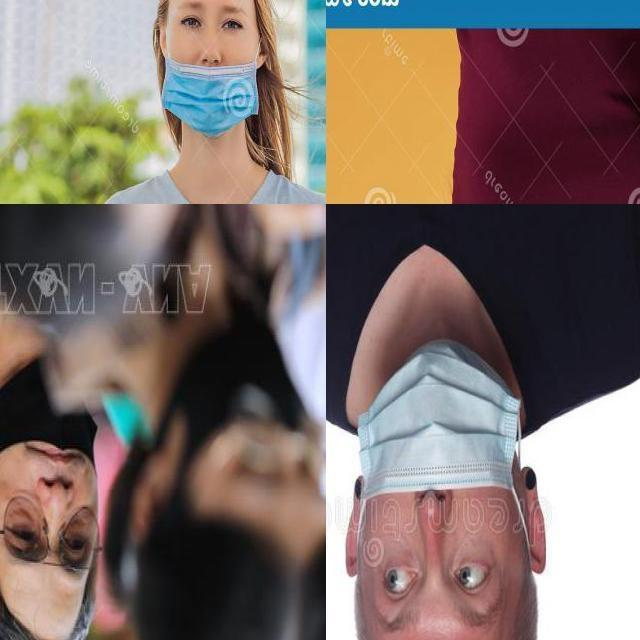hairnet: (354, 335, 522, 550), (0, 371, 98, 512), (161, 37, 262, 142)
